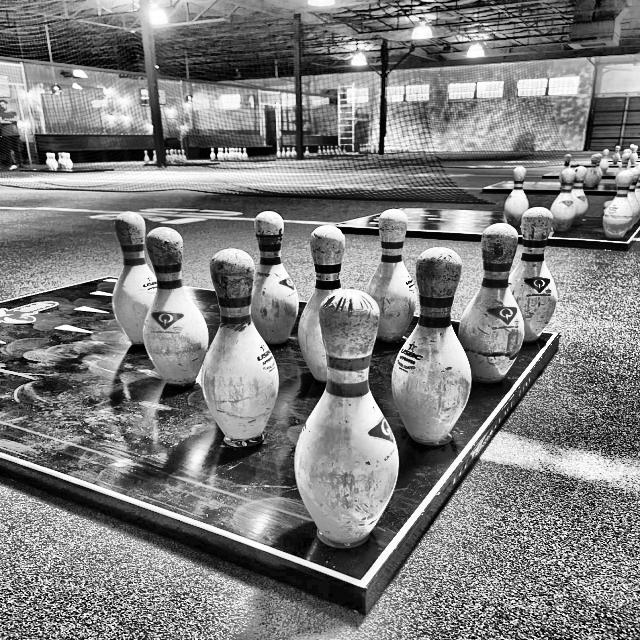bowling-ball: (295, 290, 399, 549), (392, 247, 473, 446), (201, 249, 278, 448), (142, 227, 208, 387), (459, 223, 525, 383), (298, 225, 345, 383), (366, 209, 417, 343), (510, 207, 558, 342), (251, 211, 298, 345), (112, 211, 156, 346)
